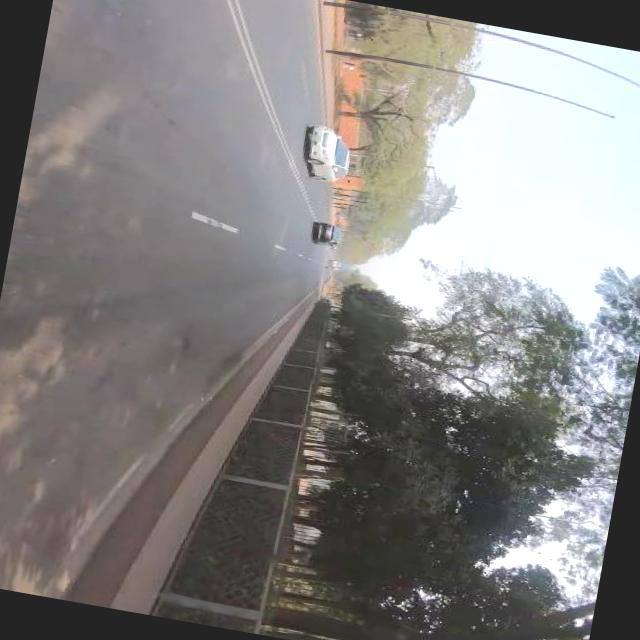car: (292, 121, 356, 188), (308, 220, 346, 252)
